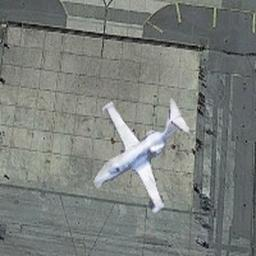Airplane: (92, 96, 190, 213)
